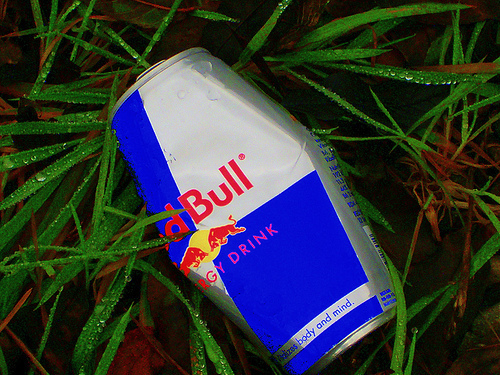litter: (109, 44, 397, 375)
